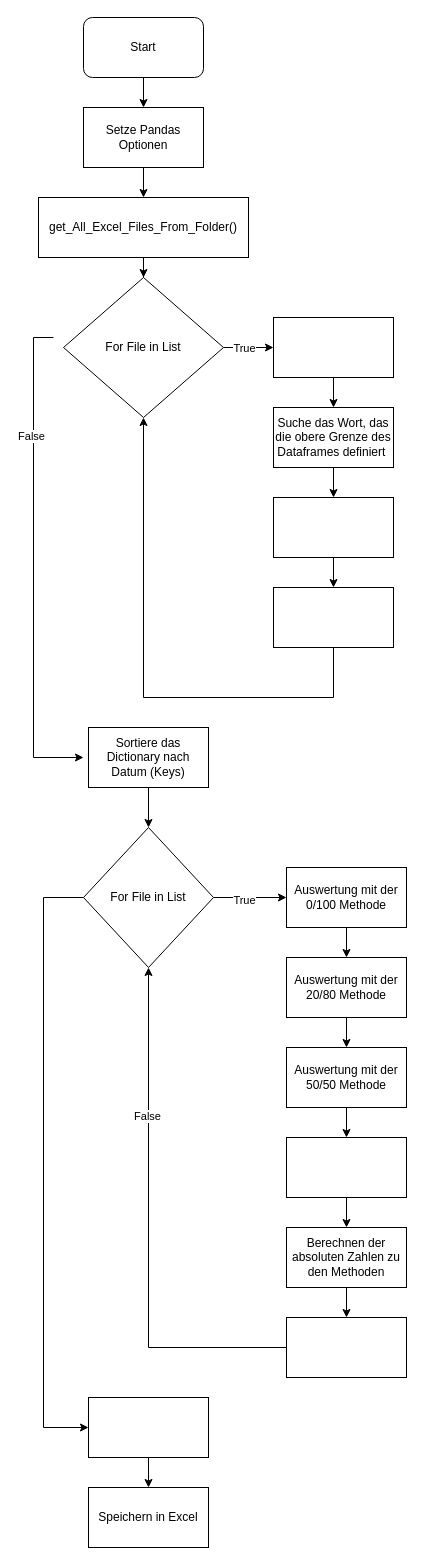
Some shapes in this 424 by 1565 pixel diagram are drawn without their labels. Each missing label, with the centre of its shape:
Finalisieren des Dataframes: the point at 148,1427
Generiere neuen Dataframe anhand der Wörter: the point at 333,617
Löschen der Spalten "EAC" & "SUM": the point at 346,1167
Nummeriert die Spalten des Dataframes: the point at 333,347
Suche das Wort, das die untere Grenze des Dataframes definiert: the point at 333,527
Ziehen der Summen pro Spalte: the point at 346,1347
